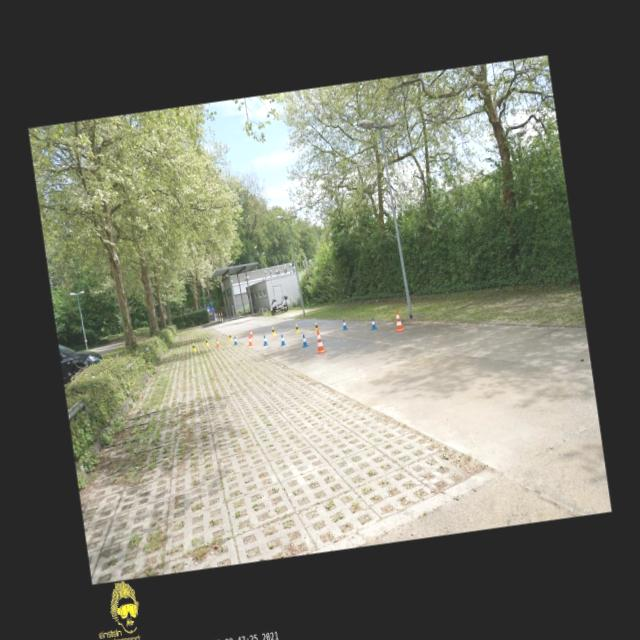blue_cone: (300, 334, 308, 347), (370, 318, 377, 330), (262, 334, 268, 346), (280, 334, 286, 346), (342, 320, 348, 330), (234, 336, 238, 345)
large_orange_cone: (314, 328, 326, 354), (394, 309, 404, 332)
orange_cone: (215, 338, 220, 348), (248, 330, 254, 338), (248, 336, 252, 346)
yellow_cone: (314, 322, 320, 332), (204, 338, 210, 346), (295, 323, 300, 332), (271, 327, 276, 335), (192, 343, 196, 352), (228, 333, 232, 340)
